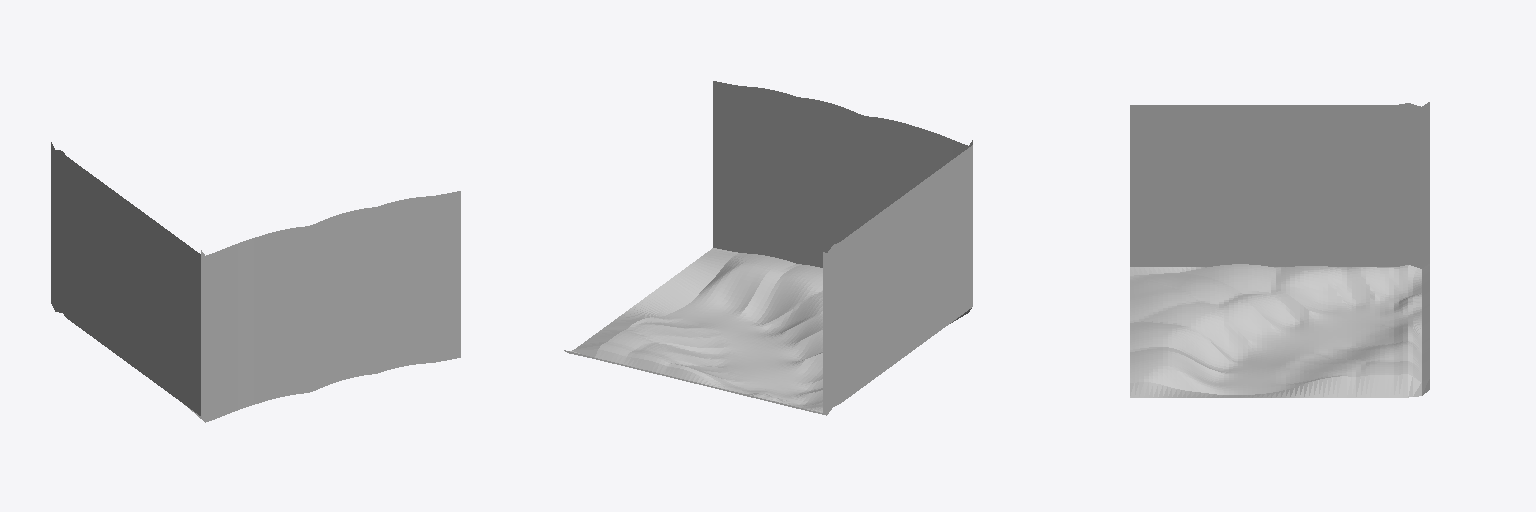
Rendered from land1.obj.
3 renders of one model, left to right at view 1: azimuth 30°, elevation 25°; view 2: azimuth 150°, elevation 25°; view 3: azimuth 270°, elevation 25°, orthographic.
Visible parts, largest first — view 1: Plane.002; view 2: Plane.002; view 3: Plane.002.
Part boxes in pixels (x1,y1,x2,y2): Plane.002: (51, 142, 460, 422); Plane.002: (564, 81, 972, 415); Plane.002: (1130, 102, 1429, 397).
Bounding box in the file's own units: 992 × 694 × 996.